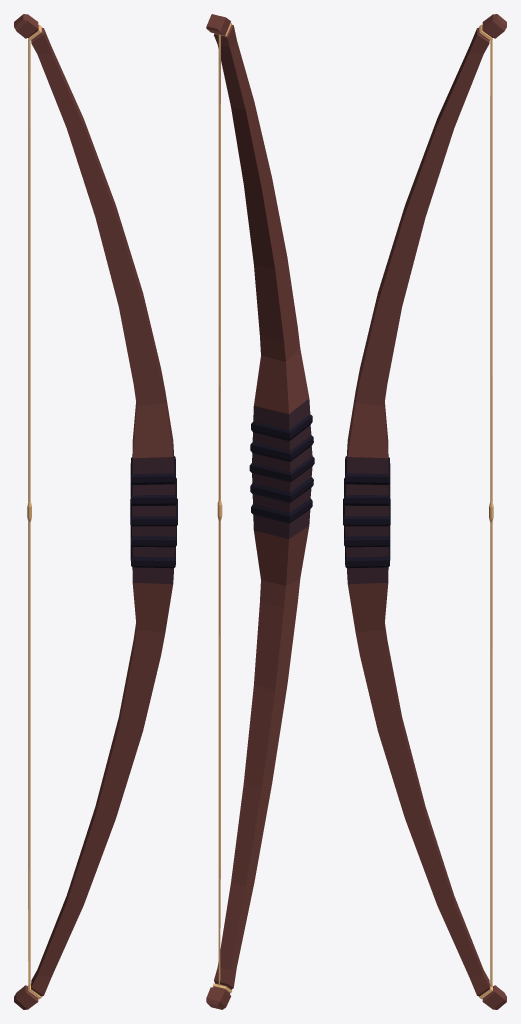
Rendered from Bow 01.fbx.
3 views of the same model, side by side, from view 1: azimuth 90°, elevation 25°; view 2: azimuth 150°, elevation 25°; view 3: azimuth 270°, elevation 25° (orthographic).
Parts seen in each view (by area): view 1: Bow 01, Bow 01 String; view 2: Bow 01, Bow 01 String; view 3: Bow 01, Bow 01 String.
Boxes of the visible parts, x1,y1,x2,y2 form: Bow 01: [14, 14, 177, 1009]; Bow 01 String: [27, 24, 41, 999]; Bow 01: [206, 14, 314, 1009]; Bow 01 String: [213, 23, 231, 993]; Bow 01: [343, 14, 506, 1009]; Bow 01 String: [479, 24, 493, 999].
Size of the model in its own units: 7.21 by 166 by 24.83.
